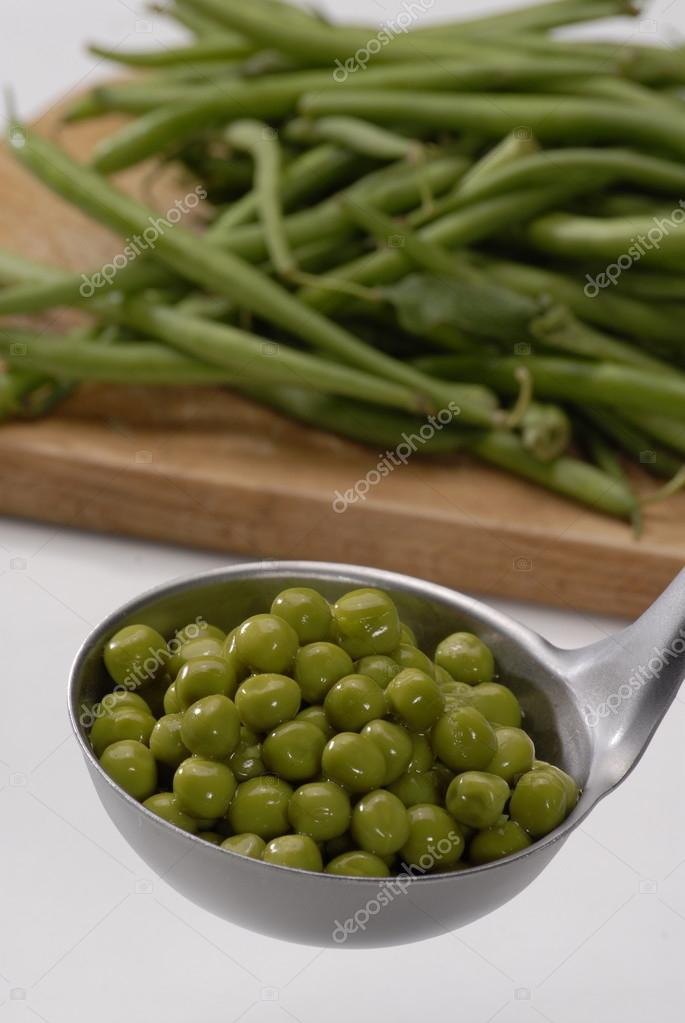boiled peas: (167, 621, 516, 828)
